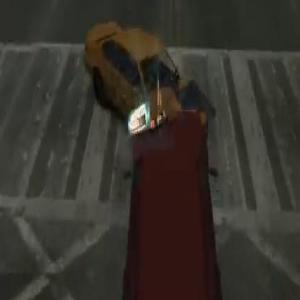significant: (80, 6, 231, 300)
